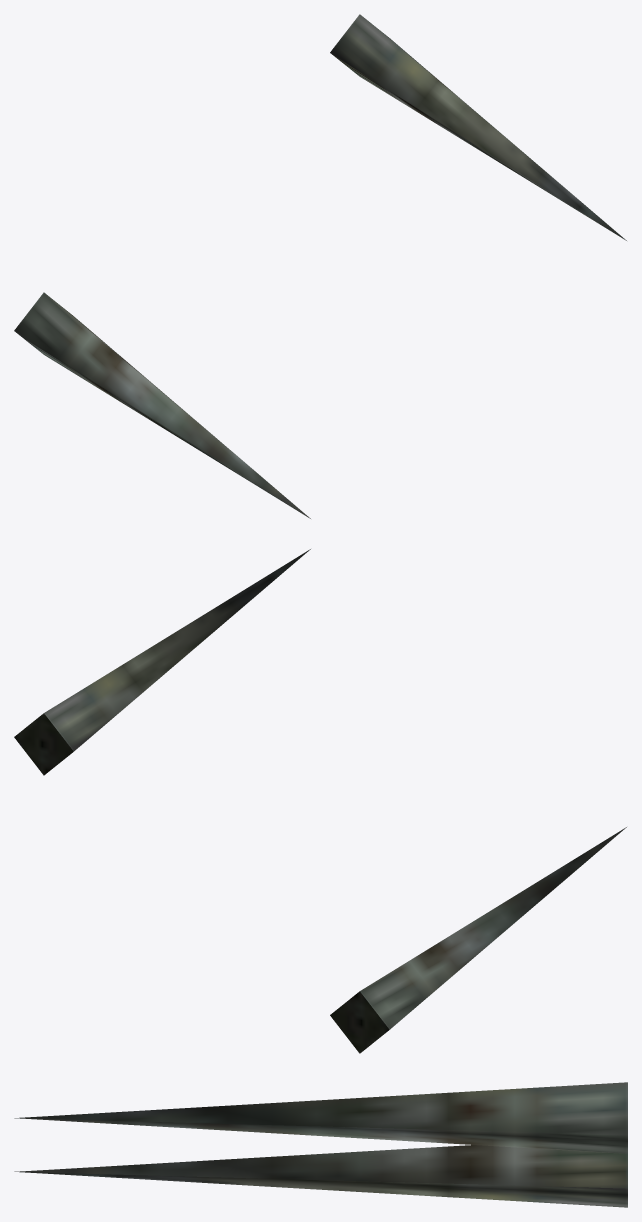
Rendered from xwing_thruster_neg_s02_l3.fbx.
3 views of the same model, one above another, from view 1: azimuth 30°, elevation 25°; view 2: azimuth 150°, elevation 25°; view 3: azimuth 270°, elevation 25° (orthographic). The views are drawn at different scales.
Visible parts, largest first — view 1: mesh_node; view 2: mesh_node; view 3: mesh_node.
Part boxes in pixels (<box>): mesh_node: <box>14,14,626,518</box>; mesh_node: <box>14,549,626,1053</box>; mesh_node: <box>14,1082,627,1207</box>.
Bounding box in the file's own units: 4.15 × 2.79 × 5.13.
Materials: 1 (1 with a texture image).
